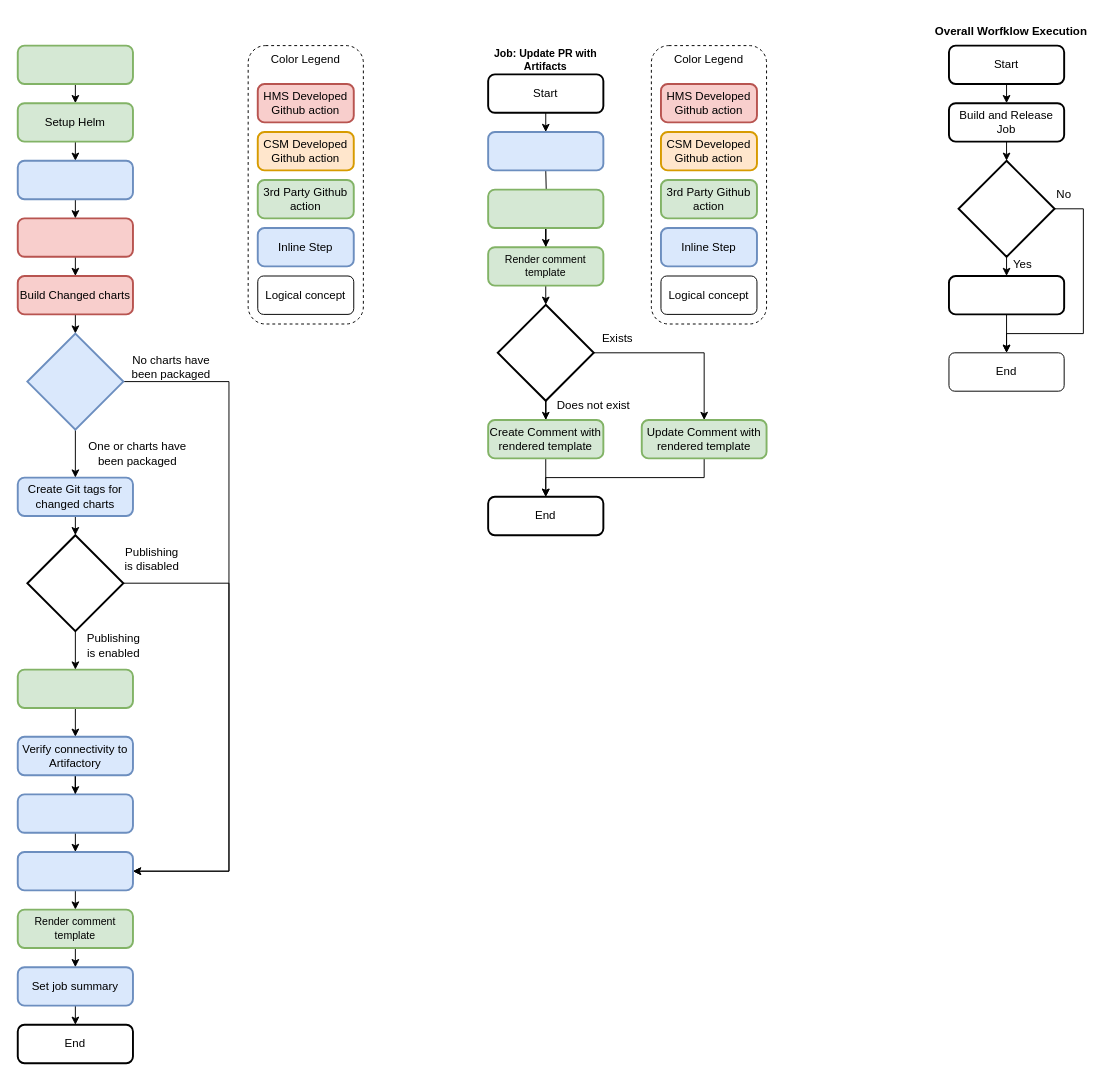
This 1109x1080 diagram has some shape labels left out. The shapes that lost their labels are listed below. From the top down, each one's centre as x and y in pixels, then its label:
At (74,64): "Checkout Git repostory".
At (545,151): "PR Comment prep".
At (74,179): "Login to Artifactory helm chart repo".
At (545,208): "Find Comment".
At (1006,208): "Is this workflow run for a PR?".
At (74,237): "Generate build metadata".
At (1006,295): "Update PR with Artifacts Job".
At (545,352): "Does PR comment exist?".
At (75,381): "Check for packaged charts".
At (75,583): "Check if publishing is enabled".
At (74,688): "Setup jfrog CLI".
At (74,813): "Publish Helm charts to artifactory".
At (74,871): "Job summary prep".
